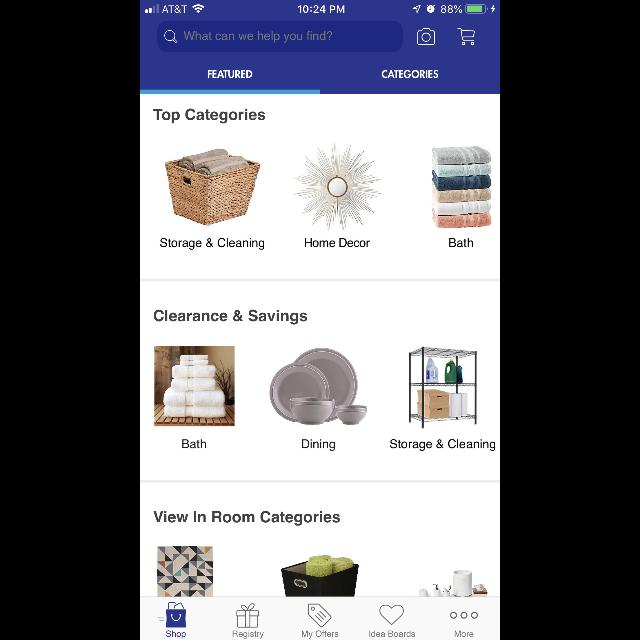icon: (158, 602, 186, 628), (308, 603, 332, 627), (237, 604, 260, 628), (380, 605, 404, 625), (418, 28, 434, 46), (458, 28, 474, 46), (165, 31, 178, 44), (450, 612, 478, 618)
image: (294, 142, 382, 230), (269, 348, 367, 424), (166, 150, 260, 227), (155, 346, 235, 426), (409, 347, 477, 429), (432, 147, 492, 229), (281, 555, 359, 597), (158, 546, 214, 596), (418, 570, 488, 596)
input: (158, 22, 402, 52)
text: (154, 510, 340, 526), (154, 310, 308, 324), (154, 108, 266, 124), (184, 32, 332, 42), (390, 439, 496, 451), (161, 238, 265, 250), (304, 238, 370, 248), (380, 70, 438, 78), (302, 439, 336, 451), (369, 630, 415, 638), (207, 71, 253, 79), (302, 630, 338, 638), (232, 631, 264, 639), (449, 238, 473, 248), (182, 439, 206, 448), (454, 630, 474, 638), (166, 630, 186, 638)
uppertaskbar: (140, 0, 500, 14)
